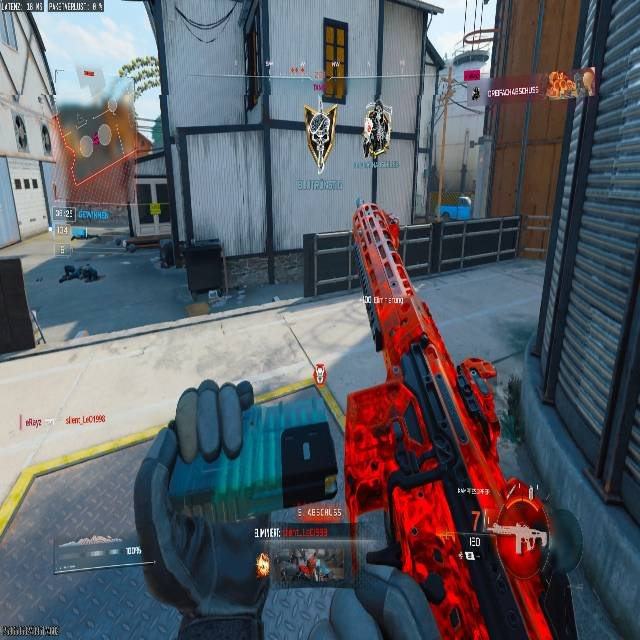player: (361, 100, 394, 160)
